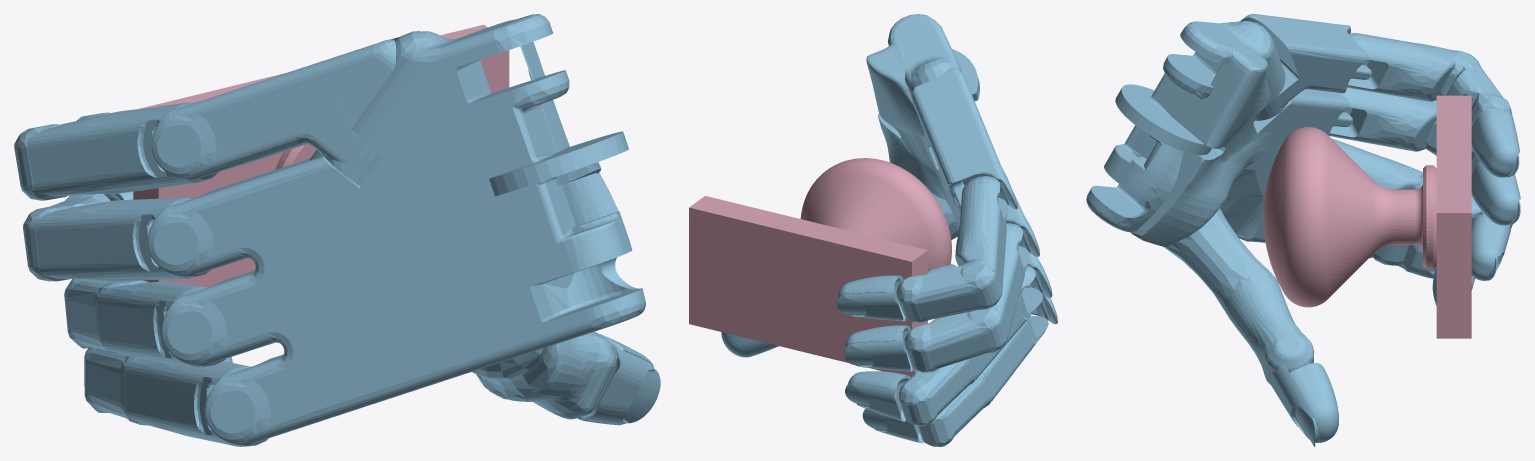
3 renders of one model, left to right at view 1: azimuth 30°, elevation 25°; view 2: azimuth 150°, elevation 25°; view 3: azimuth 270°, elevation 25°, orthographic. The views are drawn at different scales.
Parts seen in each view (by area): view 1: world; view 2: world; view 3: world.
Boxes of the visible parts, bbox=[...] form: world: bbox=[14, 14, 660, 446]; world: bbox=[689, 14, 1057, 446]; world: bbox=[1086, 14, 1520, 446].
Size of the model in its own units: 0.1534 by 0.1404 by 0.1566.
